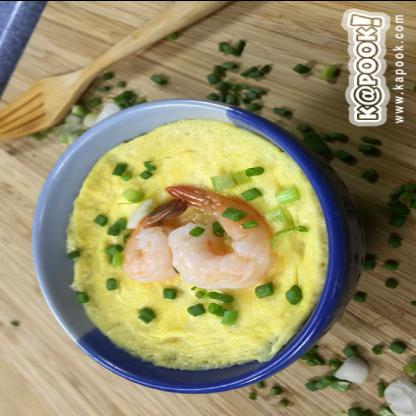Kaithoon: (61, 116, 346, 390)
